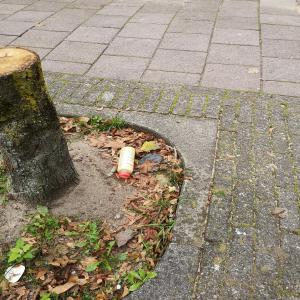Plastic-bottle: (113, 145, 141, 182)
Trash: (2, 262, 30, 286)
